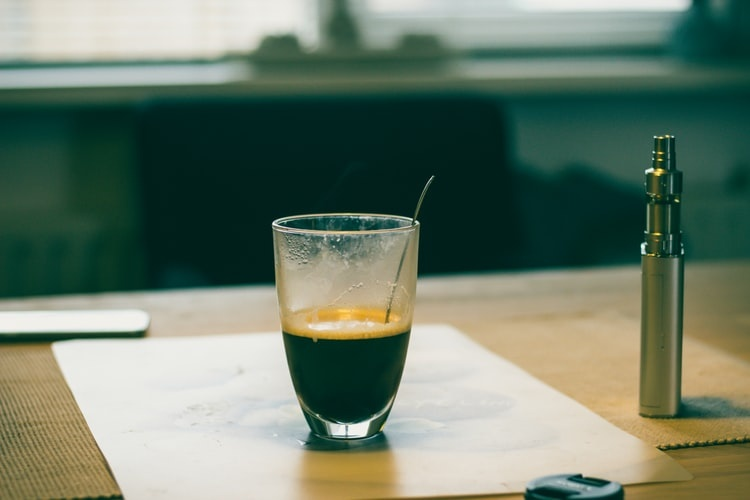whiskey: (280, 204, 423, 449)
